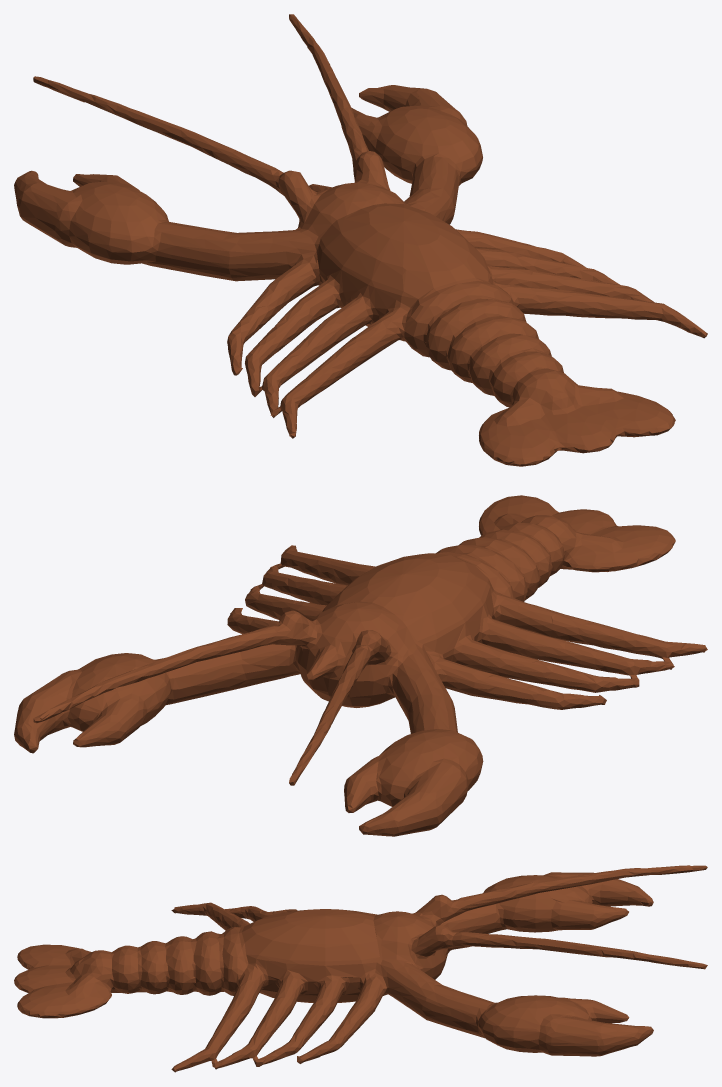
The model's file is NEW_RECOVERY_028_LOD0.glb.
The picture shows the model from 3 angles, top to bottom: view 1: azimuth 30°, elevation 25°; view 2: azimuth 150°, elevation 25°; view 3: azimuth 270°, elevation 25°; orthographic projection. The views are drawn at different scales.
Parts seen in each view (by area): view 1: Lobster_whole_LOD0; view 2: Lobster_whole_LOD0; view 3: Lobster_whole_LOD0.
Boxes of the visible parts, bbox=[...] form: Lobster_whole_LOD0: bbox=[14, 14, 707, 466]; Lobster_whole_LOD0: bbox=[14, 495, 707, 836]; Lobster_whole_LOD0: bbox=[14, 865, 707, 1072].
Size of the model in its own units: 4.57 by 1.13 by 8.19.
